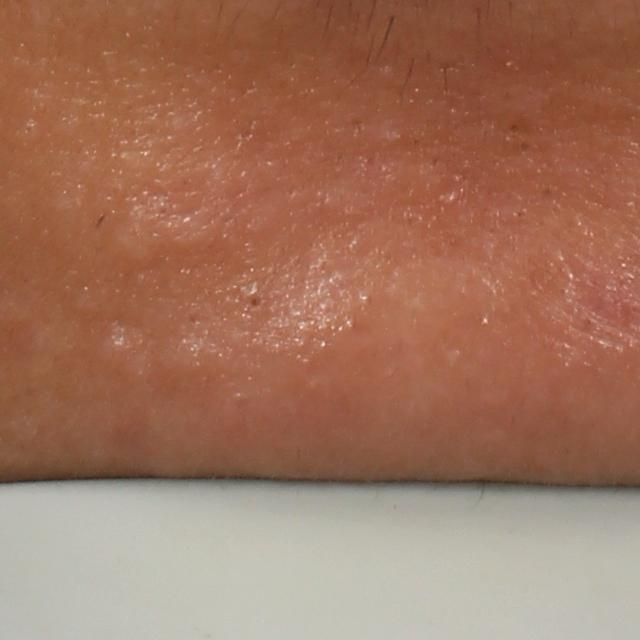comedo: (100, 328, 135, 365), (240, 286, 268, 315)
hypertrophic_scar: (113, 194, 221, 267)
